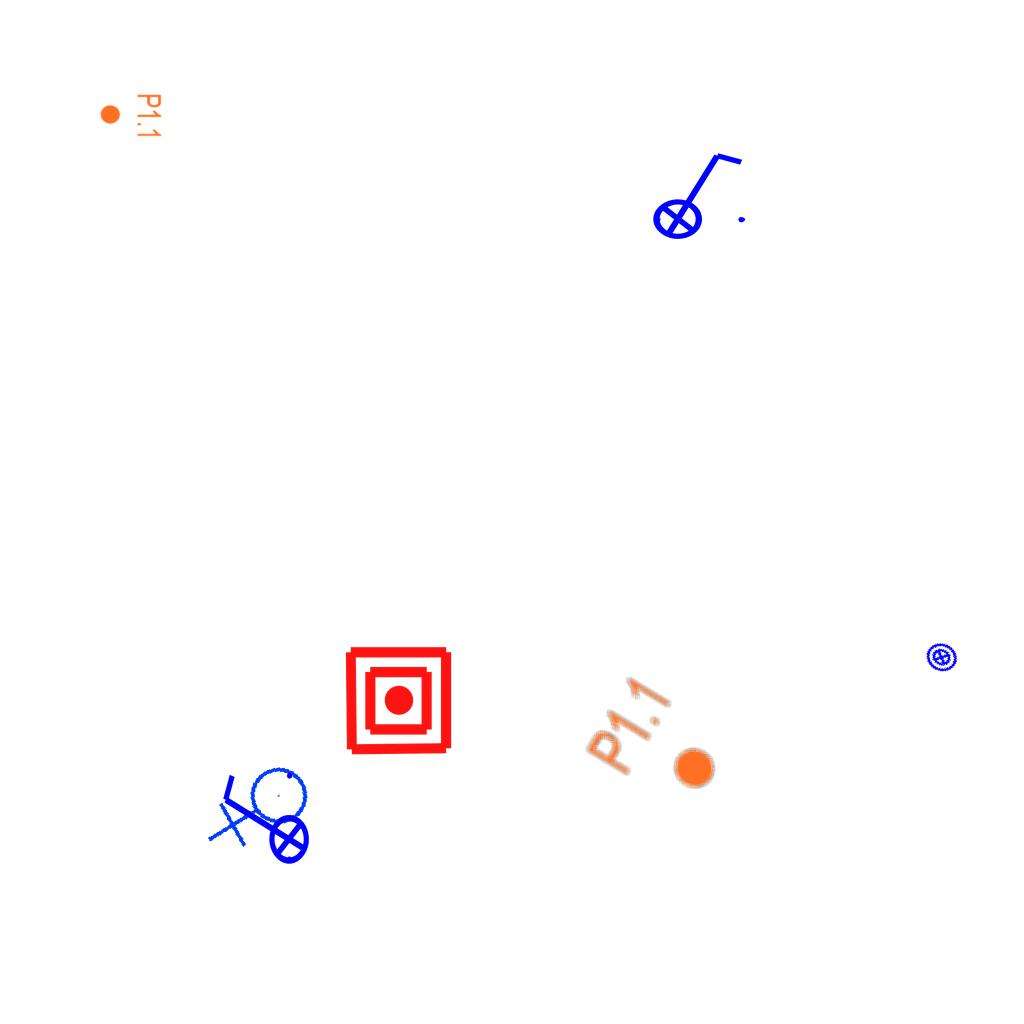Ausschalter_beleuchtet: (639, 145, 751, 241), (215, 766, 311, 878)
Downlight_LED_Einbauleuchten_Flur: (581, 671, 740, 817), (99, 93, 163, 139)
Elektroanschluss_allgemein_230V_Geraeteanschlussdose_230V: (205, 753, 322, 867)
NAM-Nichtautomatischer_Melder: (342, 644, 455, 757)
Taster_beleuchtet: (919, 635, 964, 680)
